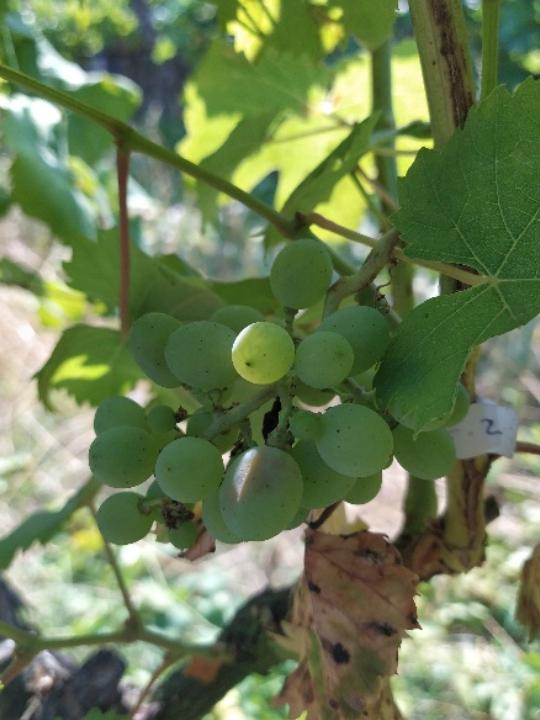grape: (85, 234, 470, 553)
